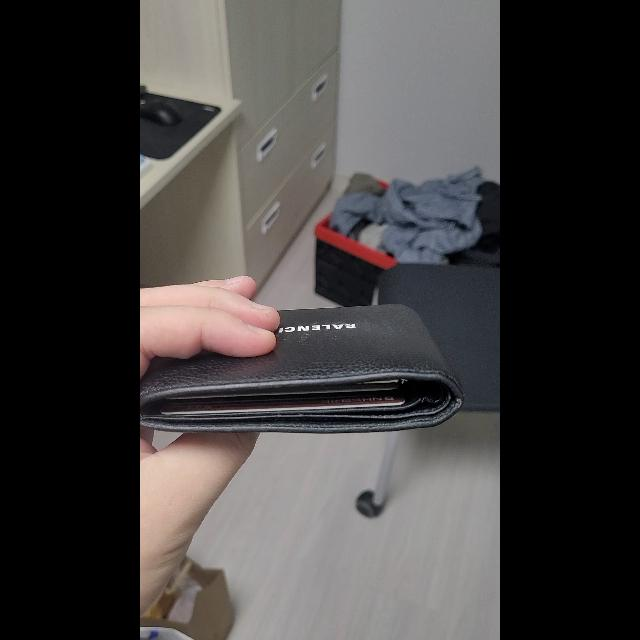WALLET: (140, 304, 464, 434)
